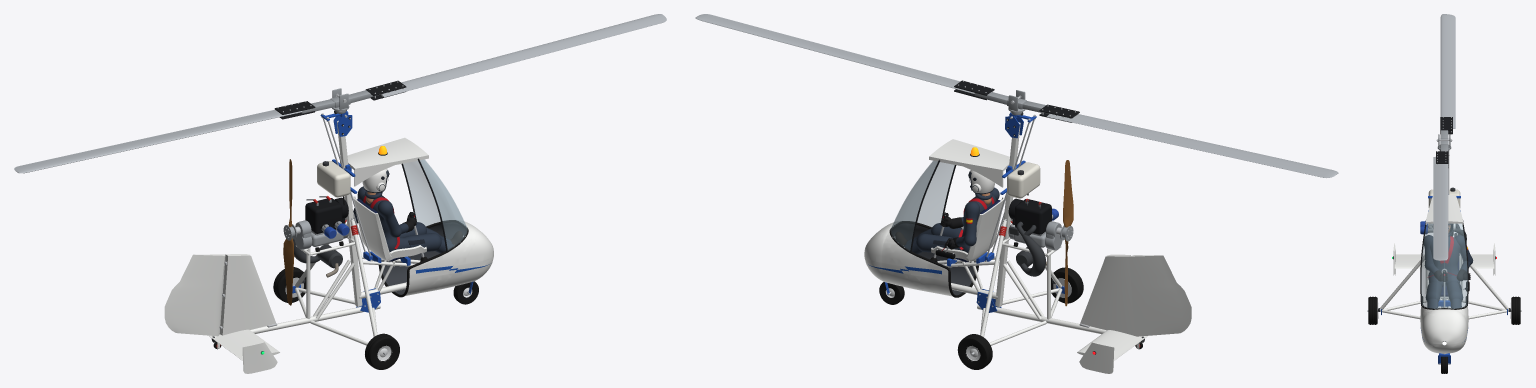
The model's file is sclightning_f.glb.
3 views of the same model, side by side, from view 1: azimuth 30°, elevation 25°; view 2: azimuth 150°, elevation 25°; view 3: azimuth 270°, elevation 25° (orthographic). The views are drawn at different scales.
Parts seen in each view (by area): view 1: airframe, rotor, rudder, windscreen, pilot_front, wheel_R, prop, wheel_L, pilot_front_legR_up; view 2: airframe, rotor, rudder, windscreen, wheel_L, prop, pilot_front, wheel_R, pilot_front_armL_up; view 3: airframe, rotor, windscreen, pilot_front, pilot_front_legL_up, pilot_front_legR_up, wheel_L, wheel_R, pilot_front_armL_up, pilot_front_armR_up, nose_wheel, pilot_front_armL_lo.
Boxes of the visible parts, x1,y1,x2,y2 form: airframe: (209, 112, 493, 373); rotor: (14, 14, 666, 173); rudder: (164, 254, 227, 336); windscreen: (403, 159, 467, 250); pilot_front: (361, 169, 399, 252); wheel_R: (365, 333, 399, 369); prop: (283, 159, 296, 305); wheel_L: (273, 267, 306, 302); pilot_front_legR_up: (396, 233, 441, 251); airframe: (864, 114, 1148, 373); rotor: (695, 14, 1338, 177); rudder: (1129, 255, 1191, 336); windscreen: (890, 160, 954, 250); wheel_L: (957, 334, 992, 369); prop: (1060, 160, 1073, 306); pilot_front: (958, 170, 996, 252); wheel_R: (1051, 267, 1083, 303); pilot_front_armL_up: (964, 201, 979, 246); airframe: (1367, 151, 1521, 354); rotor: (1433, 14, 1455, 260); windscreen: (1421, 224, 1467, 308); pilot_front: (1427, 223, 1460, 279); pilot_front_legL_up: (1445, 275, 1463, 301); pilot_front_legR_up: (1425, 275, 1443, 301); wheel_L: (1510, 296, 1520, 324); wheel_R: (1368, 296, 1378, 324); pilot_front_armL_up: (1455, 235, 1473, 264); pilot_front_armR_up: (1423, 235, 1433, 269); nose_wheel: (1438, 353, 1450, 373); pilot_front_armL_lo: (1456, 261, 1470, 281).
Size of the model in its own units: 7.01 by 2.51 by 1.86.
